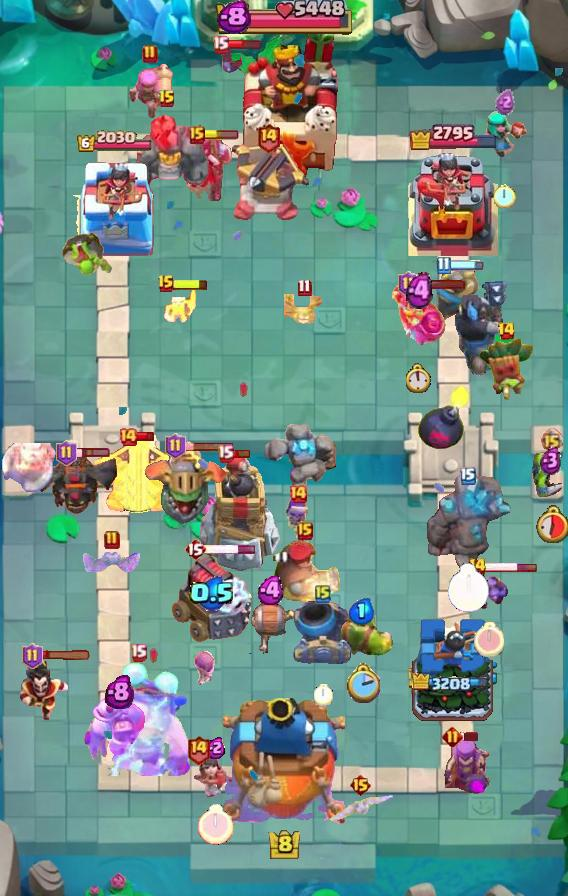axe: (0, 443, 56, 493)
bar: (484, 562, 538, 573), (204, 544, 257, 555), (40, 650, 92, 661), (183, 441, 235, 452), (416, 279, 466, 290), (173, 278, 209, 291), (74, 447, 111, 459), (227, 38, 262, 50), (448, 260, 484, 271), (203, 130, 239, 140), (460, 731, 480, 742), (231, 448, 251, 459), (136, 431, 155, 442)
bar-level: (186, 734, 211, 765), (256, 122, 281, 153), (349, 773, 372, 797), (22, 643, 43, 669), (56, 440, 77, 466), (165, 433, 186, 459), (398, 271, 419, 297), (540, 428, 563, 451), (184, 537, 206, 561), (442, 726, 463, 747), (288, 484, 308, 504), (118, 427, 138, 447), (468, 557, 487, 577), (497, 321, 516, 341), (157, 274, 175, 294), (158, 89, 176, 109), (130, 643, 147, 662), (217, 444, 234, 463), (212, 35, 229, 54), (315, 584, 331, 604), (104, 530, 120, 550), (142, 44, 158, 64), (297, 522, 313, 540), (460, 467, 476, 485), (189, 126, 205, 144), (297, 278, 312, 297), (436, 256, 451, 275)
bat: (220, 45, 246, 75)
bat-evolution: (327, 790, 393, 824), (81, 551, 143, 575)
bomb: (417, 383, 471, 451)
clock: (447, 563, 490, 613), (198, 804, 234, 845), (345, 663, 380, 703), (535, 505, 568, 543), (474, 622, 504, 657), (406, 363, 432, 393), (494, 183, 516, 208), (314, 684, 333, 706)
dart-goblin: (477, 336, 535, 402)
electro-wizard: (17, 661, 75, 725)
elixir: (189, 576, 235, 611), (216, 0, 251, 35), (406, 272, 433, 310), (105, 674, 134, 709), (257, 576, 287, 605), (349, 598, 375, 625), (540, 446, 562, 475), (495, 89, 515, 115), (206, 736, 226, 759)
firecracker: (127, 62, 174, 120)
goblin: (526, 443, 568, 501)
goblin-ball: (60, 231, 114, 279)
goblin-brawler: (328, 608, 396, 664)
golemite: (260, 424, 336, 502)
hunter: (268, 539, 342, 603)
king-tower: (224, 23, 344, 181), (223, 698, 345, 826)
king-tower-bar: (213, 0, 355, 38)
knight: (428, 262, 479, 325)
knight-evolution: (392, 283, 446, 346)
lava-pup: (284, 294, 324, 326)
mega-minion: (92, 685, 146, 757)
minion: (468, 572, 510, 612)
mortar: (293, 600, 353, 664)
mother-witch: (440, 736, 494, 800)
night-witch: (178, 131, 236, 203)
princess: (191, 748, 241, 800)
queen-tower: (409, 616, 497, 731), (408, 152, 498, 256), (69, 158, 159, 256)
rascal-girl: (482, 110, 528, 160)
skeleton: (162, 287, 198, 325)
skeleton-evolution: (283, 498, 313, 540), (191, 648, 218, 686)
tower-bar: (408, 122, 499, 150), (76, 130, 153, 154), (412, 673, 494, 695)
wall-breaker: (248, 600, 296, 654)
